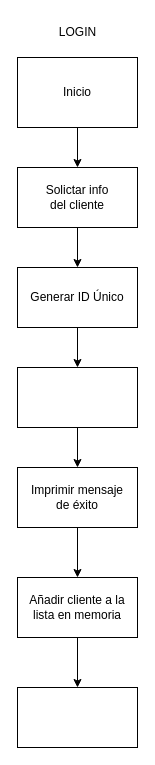
Some shapes in this 155 by 765 pixel diagram are drawn without their labels. The box of each missing label's shape, as (x1, y1, x2, y2) in pixels:
Escribir en "clientes.txt: (16, 366, 138, 428)
Fin: (16, 686, 138, 748)
